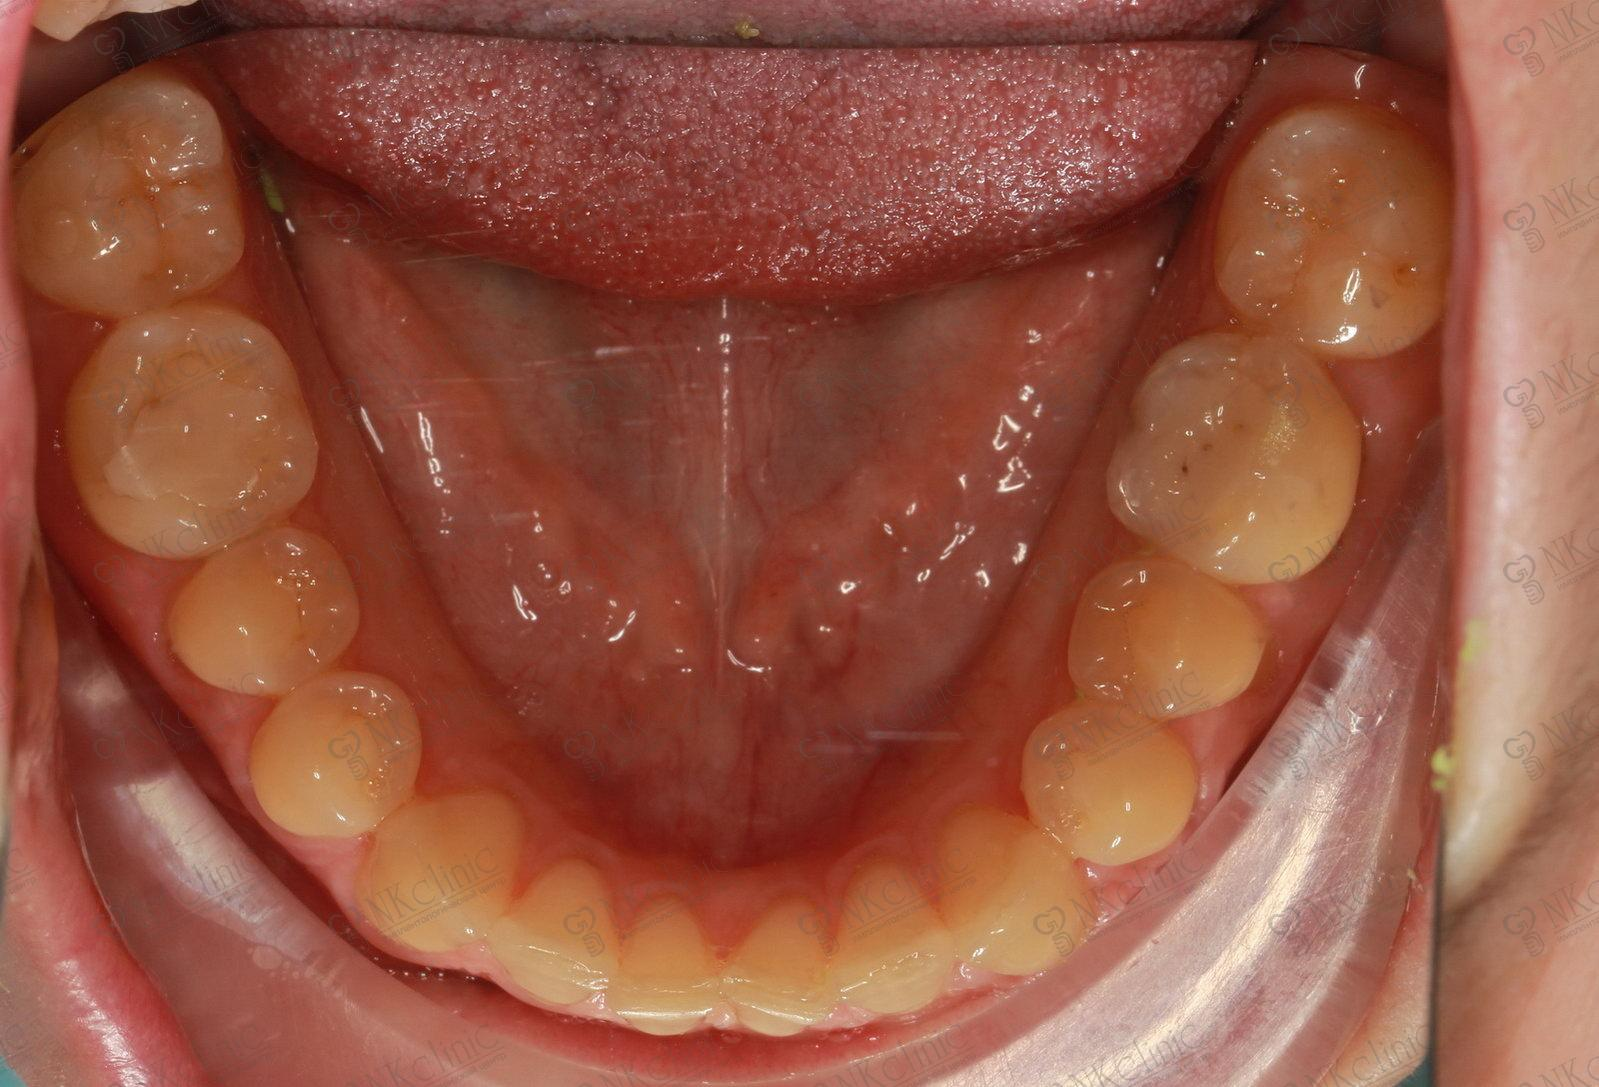LL1BC_healthy: (1001, 695, 1194, 892)
LL1M_decay: (1111, 325, 1358, 593)
LL2BC_healthy: (1066, 569, 1287, 732)
LL2M_healthy: (1211, 101, 1449, 337)
LLCI_healthy: (707, 897, 827, 1037)
LLC_healthy: (933, 825, 1089, 983)
LLLI_healthy: (829, 873, 954, 1021)
LR1BC_healthy: (244, 666, 433, 842)
LR1M_healthy: (59, 315, 332, 557)
LR2BC_healthy: (163, 525, 385, 688)
LR2M_healthy: (5, 69, 258, 318)
LRCI_healthy: (608, 901, 725, 1045)
LRC_healthy: (342, 792, 534, 963)
LRLI_healthy: (493, 859, 622, 1019)
